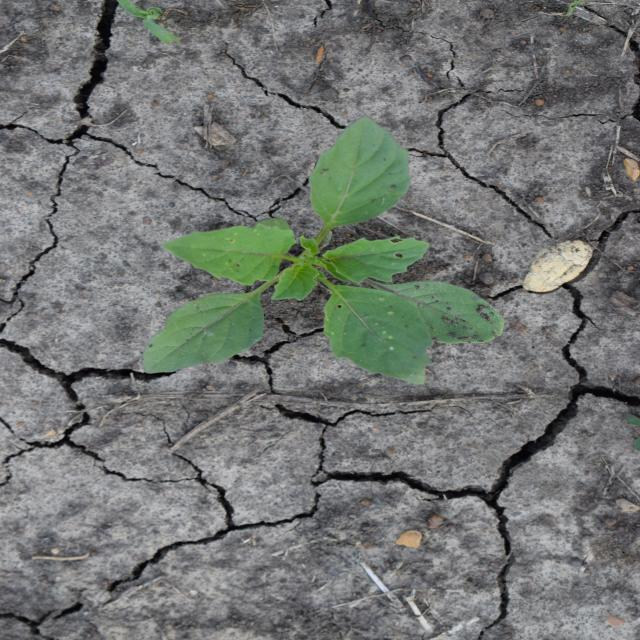CutleafGroundcherry: (134, 116, 508, 389)
